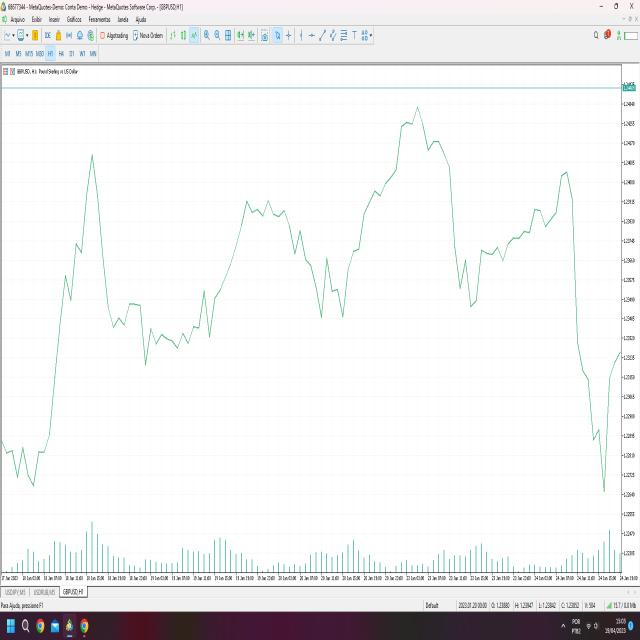fundo_duplo: (302, 248, 362, 333), (448, 252, 492, 319)
